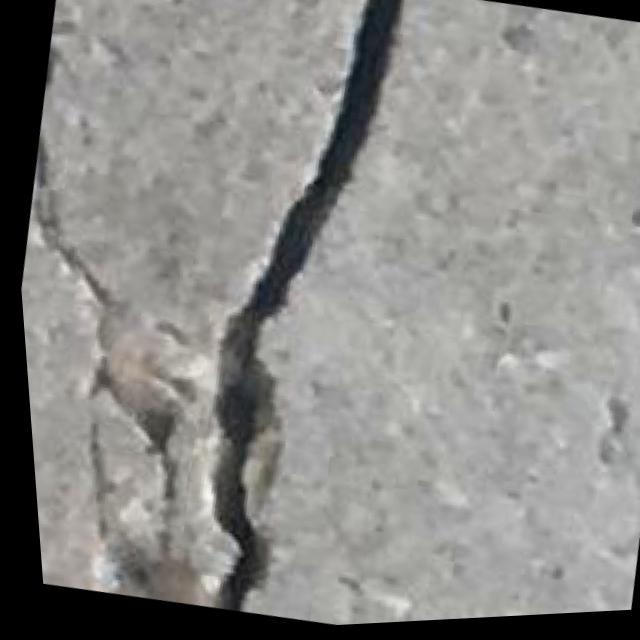Crack: (134, 0, 464, 635), (9, 143, 257, 610)
